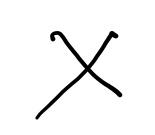mult: (36, 31, 123, 120)
